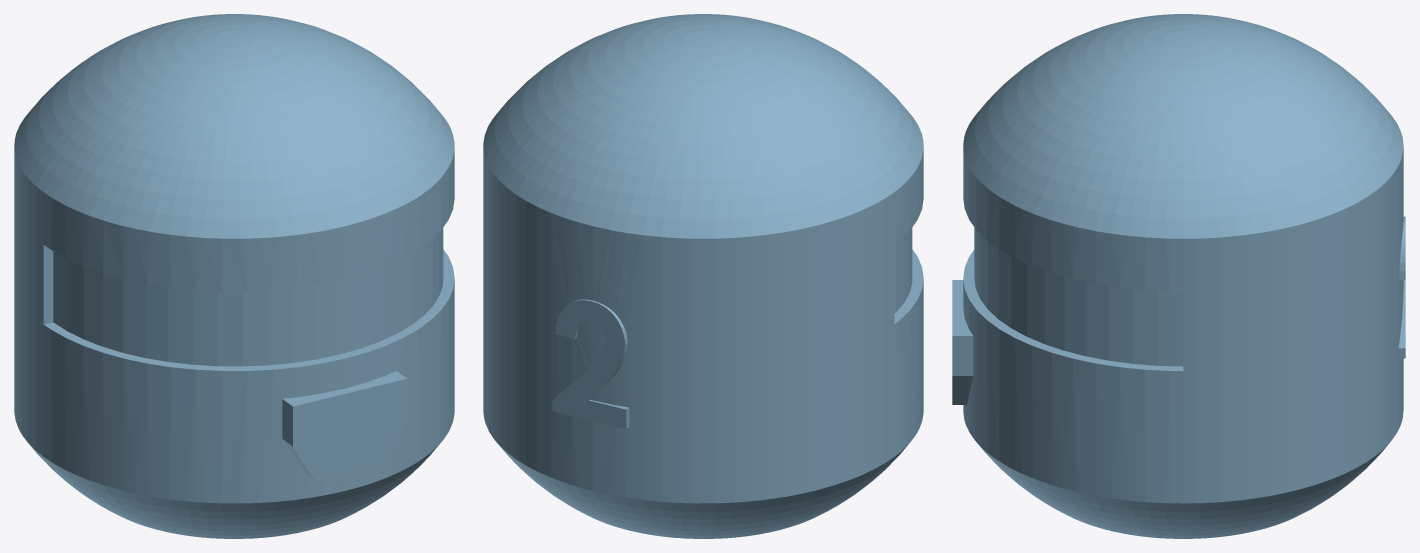
File: case-04_lib00010.glb
3 renders of one model, left to right at view 1: azimuth 30°, elevation 25°; view 2: azimuth 150°, elevation 25°; view 3: azimuth 270°, elevation 25°, orthographic.
Visible parts, largest first — view 1: lib00010; view 2: lib00010; view 3: lib00010.
Boxes of the visible parts, x1,y1,x2,y2 form: lib00010: (14, 14, 454, 538); lib00010: (483, 14, 923, 538); lib00010: (952, 14, 1405, 538).
Bounding box in the file's own units: 71.11 × 78 × 73.24.
